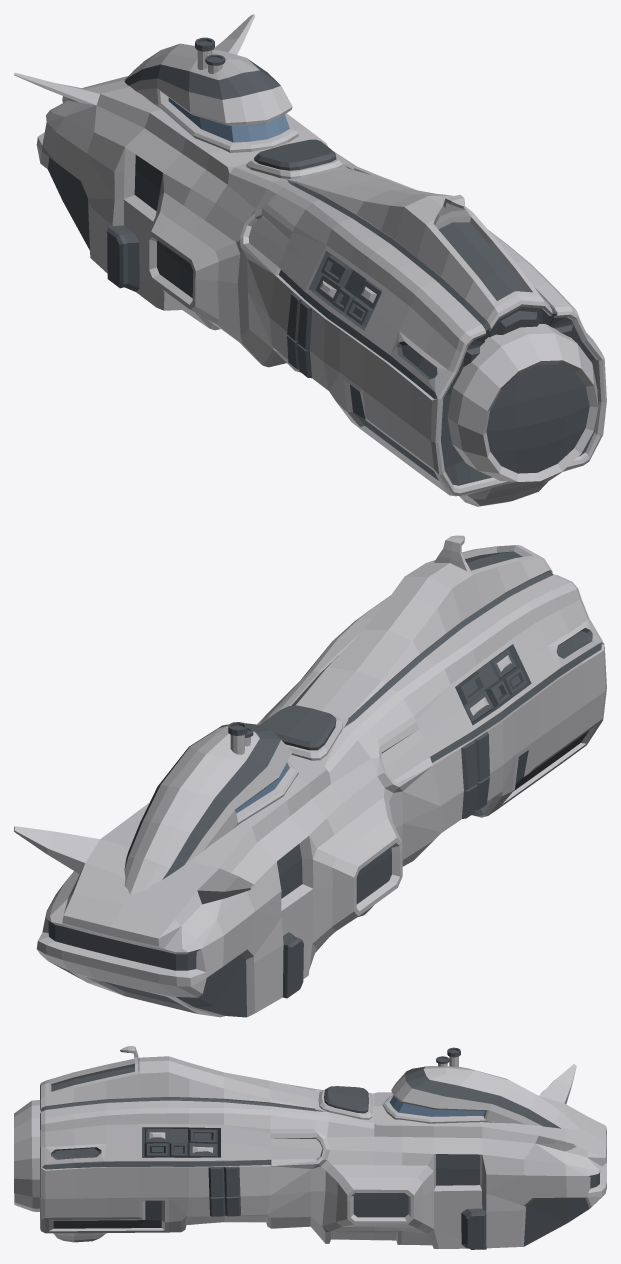
Rendered from Dropship_05_.fbx.
3 renders of one model, top to bottom at view 1: azimuth 30°, elevation 25°; view 2: azimuth 150°, elevation 25°; view 3: azimuth 270°, elevation 25°, orthographic. The views are drawn at different scales.
Visible parts, largest first — view 1: Dropship_05_; view 2: Dropship_05_; view 3: Dropship_05_.
Part boxes in pixels (bbox=[...]): Dropship_05_: bbox=[14, 14, 606, 506]; Dropship_05_: bbox=[14, 535, 606, 1017]; Dropship_05_: bbox=[14, 1046, 606, 1249].
Size of the model in its own units: 545 by 575 by 1683.
3 materials, 3 textured.
